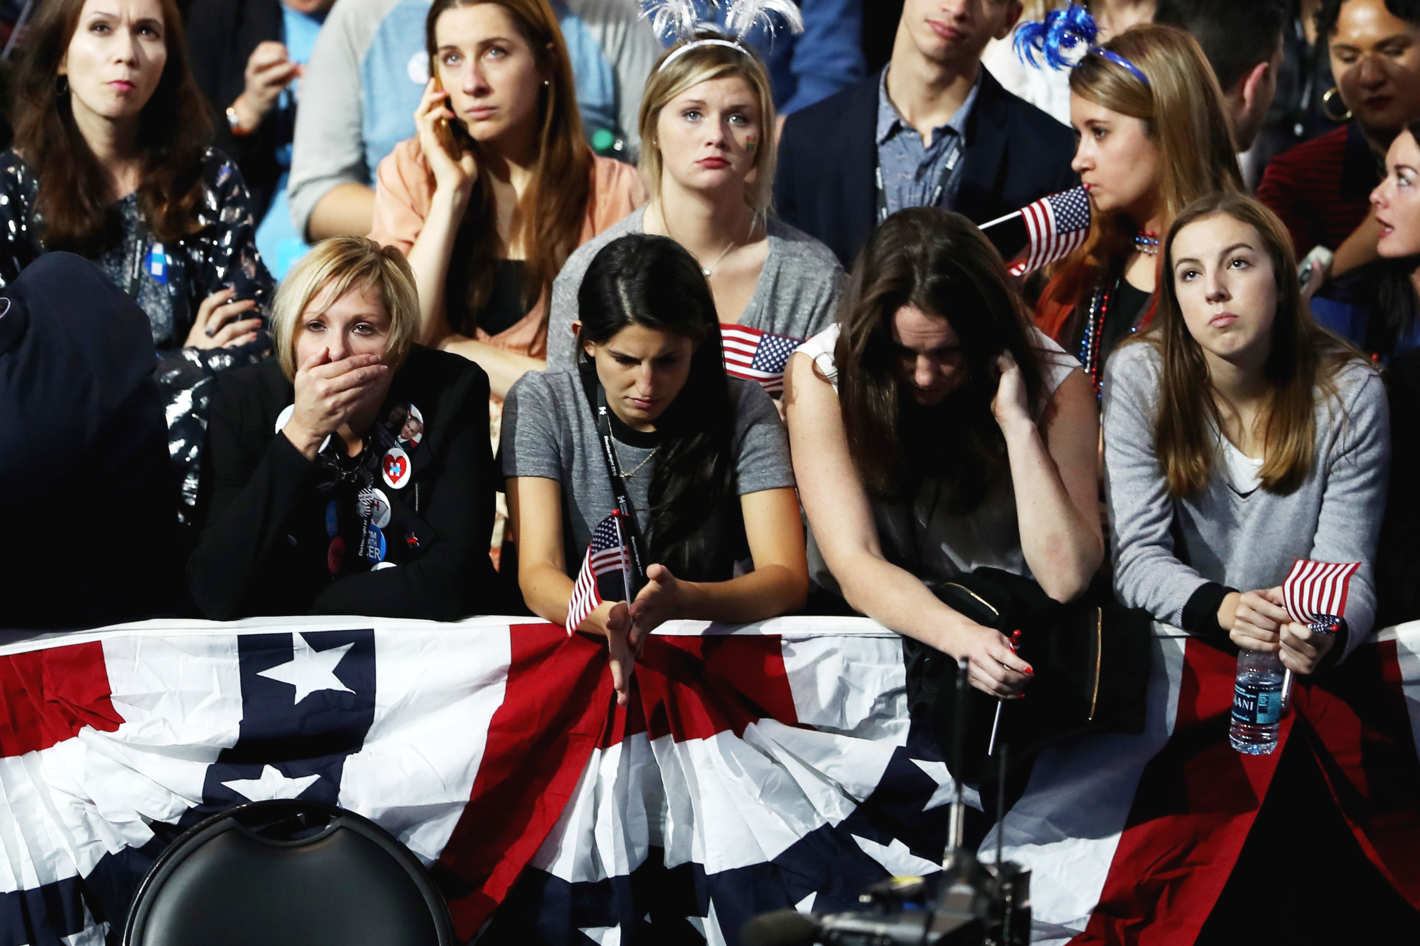sad: (279, 270, 402, 410), (665, 47, 763, 206), (1169, 215, 1275, 357), (438, 9, 539, 145), (593, 312, 702, 432)
